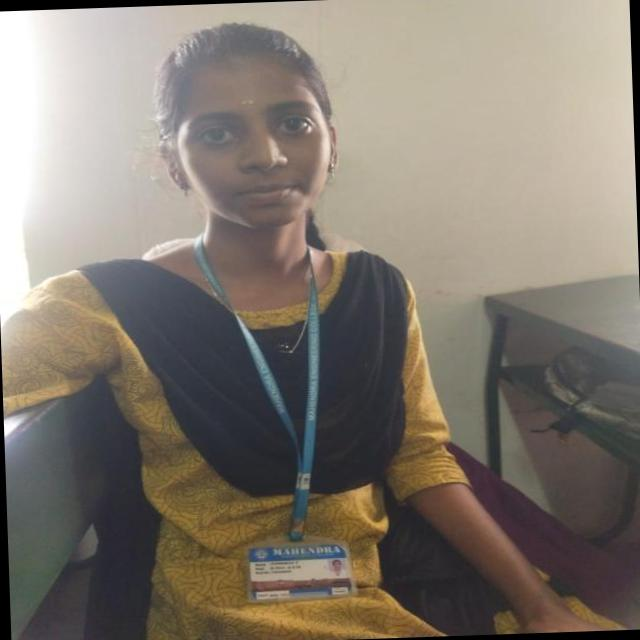id_card: (204, 227, 356, 604)
